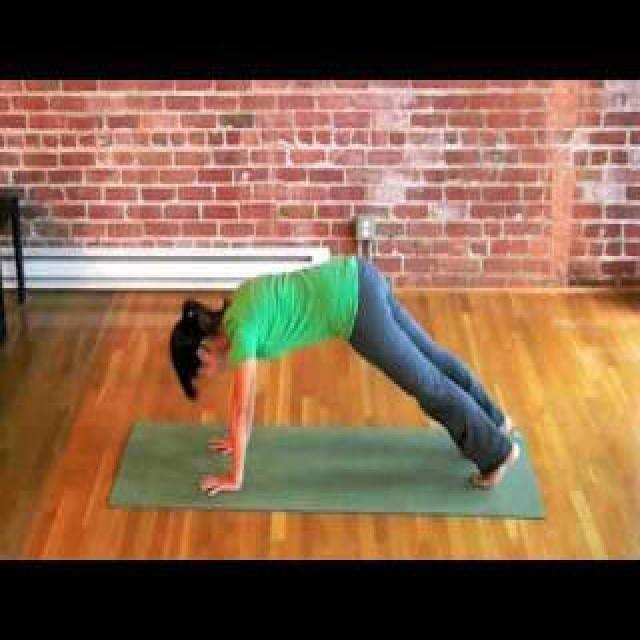yoga-pose plank: (172, 252, 518, 495)
